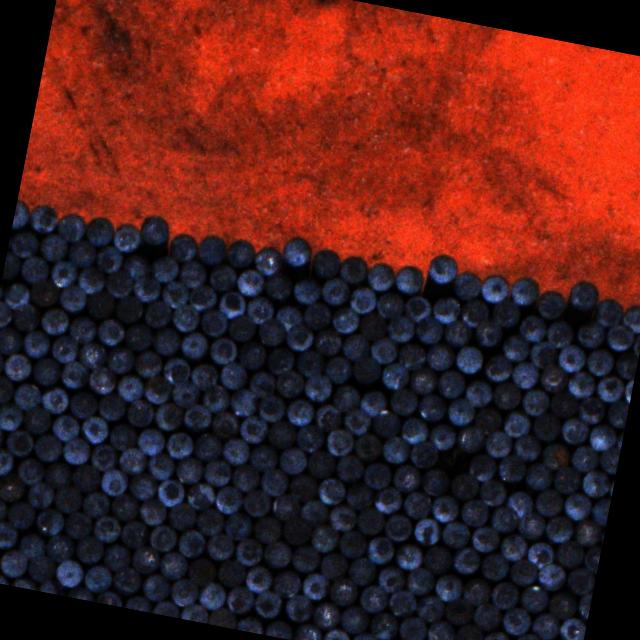tool: (426, 250, 460, 286), (195, 232, 228, 268), (478, 270, 511, 306), (280, 234, 314, 268), (534, 287, 568, 321), (110, 220, 143, 255), (167, 230, 200, 265), (567, 278, 600, 313), (83, 214, 116, 248), (309, 246, 342, 280), (392, 262, 425, 296), (508, 274, 541, 308), (318, 274, 352, 307), (235, 338, 268, 372), (159, 354, 192, 388), (420, 542, 453, 576), (54, 210, 87, 243), (350, 353, 383, 386), (273, 366, 306, 399), (351, 431, 384, 464), (408, 437, 441, 470), (27, 201, 59, 235), (138, 212, 170, 246), (252, 244, 284, 278), (365, 260, 397, 294), (592, 296, 624, 330), (37, 230, 69, 264), (373, 288, 405, 322), (458, 296, 490, 330), (102, 266, 134, 300), (169, 300, 201, 334), (10, 300, 42, 334), (490, 378, 522, 412), (49, 332, 81, 366), (470, 598, 502, 632), (336, 254, 369, 286), (451, 269, 483, 302), (8, 227, 40, 260), (429, 294, 462, 326), (28, 276, 61, 308), (424, 340, 457, 372), (435, 367, 467, 400), (132, 347, 164, 380), (58, 358, 91, 390), (218, 359, 250, 392), (414, 390, 447, 422), (340, 404, 372, 437), (530, 410, 562, 443), (586, 420, 618, 453), (539, 439, 571, 472), (10, 380, 42, 413), (266, 418, 298, 451), (115, 444, 148, 476), (308, 522, 341, 554), (118, 518, 151, 550), (262, 268, 293, 302), (500, 604, 531, 638), (92, 242, 124, 274), (120, 250, 152, 282), (148, 252, 180, 284), (176, 258, 208, 290), (206, 261, 238, 293), (234, 266, 266, 298), (290, 274, 322, 306), (346, 284, 378, 316), (543, 318, 575, 350), (300, 299, 332, 331), (356, 310, 388, 342), (556, 342, 588, 374), (256, 316, 288, 348), (368, 334, 400, 366), (396, 340, 428, 372), (538, 362, 570, 394), (39, 305, 71, 337), (94, 315, 126, 347), (122, 321, 154, 353), (574, 394, 606, 426), (20, 328, 52, 360), (104, 344, 136, 376), (86, 364, 118, 396), (169, 378, 201, 410), (227, 386, 259, 418), (300, 370, 332, 402), (387, 386, 419, 418), (369, 408, 401, 440), (558, 414, 590, 446), (454, 422, 486, 454), (39, 384, 71, 416), (181, 402, 213, 434), (208, 409, 240, 441), (237, 412, 269, 444), (294, 421, 326, 453), (560, 490, 592, 522), (97, 466, 129, 498), (70, 462, 102, 494), (212, 484, 244, 516), (240, 486, 272, 518), (129, 544, 161, 576), (357, 582, 389, 614), (386, 588, 418, 620), (414, 593, 446, 625), (443, 595, 475, 627), (52, 556, 84, 588), (168, 576, 200, 608), (196, 579, 228, 611), (338, 604, 370, 636), (225, 237, 256, 270), (19, 253, 50, 286), (179, 329, 210, 362), (379, 360, 412, 391), (579, 468, 612, 499), (75, 264, 106, 296), (131, 272, 162, 304), (244, 293, 275, 325), (482, 352, 514, 383), (57, 282, 88, 314), (84, 288, 115, 320), (341, 332, 372, 364), (565, 368, 596, 400), (594, 372, 626, 403), (67, 314, 98, 346), (150, 325, 181, 357), (294, 348, 325, 380), (407, 364, 438, 396), (463, 376, 494, 408), (76, 339, 108, 370), (31, 356, 62, 388), (357, 387, 388, 419), (398, 414, 429, 446), (425, 420, 457, 451), (482, 428, 514, 459), (68, 389, 99, 421), (153, 400, 184, 432), (20, 404, 52, 435), (78, 414, 110, 445), (107, 420, 138, 452), (135, 425, 166, 457), (304, 448, 336, 479), (488, 503, 520, 534), (155, 476, 186, 508), (184, 481, 216, 512), (554, 538, 585, 570), (52, 482, 83, 514), (223, 510, 254, 542), (451, 544, 482, 576), (176, 526, 207, 558), (232, 536, 264, 567), (261, 538, 292, 570), (404, 565, 436, 596), (432, 572, 464, 603), (519, 582, 550, 614), (73, 534, 104, 566), (100, 542, 132, 573), (271, 568, 302, 600), (82, 563, 114, 594), (110, 564, 142, 595), (283, 591, 314, 623), (510, 358, 540, 391), (346, 554, 376, 587), (66, 237, 97, 268), (517, 312, 548, 343), (413, 314, 444, 345), (142, 298, 173, 329), (520, 387, 551, 418), (1, 351, 32, 382), (330, 383, 361, 414), (501, 408, 532, 439), (125, 397, 156, 428), (220, 436, 251, 467), (391, 462, 422, 493), (229, 462, 260, 493), (543, 514, 574, 545), (127, 471, 158, 502), (441, 519, 472, 550), (137, 496, 168, 527), (166, 500, 197, 531), (365, 534, 396, 565), (478, 551, 509, 582), (461, 577, 492, 608), (489, 579, 520, 610), (490, 298, 522, 328), (112, 294, 144, 324), (284, 320, 314, 352), (208, 334, 238, 366), (322, 353, 352, 385), (548, 390, 580, 420), (141, 374, 173, 404), (200, 382, 230, 414), (284, 396, 316, 426), (312, 401, 342, 433), (444, 396, 476, 426), (472, 404, 502, 436), (324, 426, 354, 458), (551, 464, 581, 496), (430, 492, 460, 524), (270, 492, 302, 522), (411, 514, 441, 546), (498, 531, 528, 563), (508, 556, 538, 588), (536, 560, 566, 592), (62, 508, 92, 540), (291, 542, 321, 574), (44, 532, 74, 564), (158, 550, 188, 582), (300, 570, 330, 602), (140, 572, 170, 604), (402, 294, 433, 324), (49, 259, 79, 290), (160, 278, 190, 309), (442, 318, 472, 349), (500, 333, 530, 364), (528, 338, 558, 369), (312, 326, 343, 356), (265, 346, 296, 376), (189, 361, 219, 392), (246, 369, 277, 399), (256, 392, 286, 423), (511, 432, 542, 462), (96, 392, 127, 422), (524, 460, 554, 491), (49, 413, 80, 443), (164, 430, 194, 461), (192, 432, 222, 463), (334, 452, 364, 483), (534, 487, 564, 518), (32, 432, 63, 462), (60, 435, 90, 466), (287, 472, 318, 502), (316, 476, 346, 507), (372, 484, 402, 515), (459, 497, 489, 528), (194, 506, 224, 537), (546, 589, 576, 620), (186, 556, 216, 587), (216, 557, 246, 588), (243, 564, 274, 594), (327, 576, 358, 606), (529, 610, 560, 640), (225, 584, 255, 615), (311, 600, 341, 631), (367, 610, 398, 640), (576, 320, 606, 350), (604, 322, 634, 352), (187, 282, 217, 312), (218, 290, 248, 320), (330, 305, 360, 335), (385, 314, 415, 344), (454, 344, 484, 374), (584, 346, 614, 376), (1, 280, 31, 310), (198, 308, 228, 338), (226, 312, 256, 342), (114, 372, 144, 402), (569, 443, 599, 473), (380, 434, 410, 464), (496, 453, 526, 483), (277, 446, 307, 476), (248, 442, 278, 472), (362, 460, 392, 490), (450, 471, 480, 501), (476, 478, 506, 508), (504, 489, 534, 519), (4, 428, 34, 458), (146, 452, 176, 482), (202, 458, 232, 488), (259, 466, 289, 496), (344, 481, 374, 511), (400, 490, 430, 520), (516, 510, 546, 540), (15, 456, 45, 486), (42, 460, 72, 490), (298, 498, 328, 528), (382, 512, 412, 542), (524, 540, 554, 570), (80, 490, 110, 520), (109, 492, 139, 522), (252, 514, 282, 544), (282, 516, 312, 546), (338, 529, 368, 559), (394, 542, 424, 572), (565, 566, 595, 596), (6, 500, 36, 530), (34, 506, 64, 536), (92, 514, 122, 544), (148, 522, 178, 552), (318, 550, 348, 580), (376, 564, 406, 594), (26, 554, 56, 584), (252, 588, 282, 618), (327, 504, 358, 533), (473, 318, 502, 348), (467, 454, 497, 483), (420, 468, 450, 497), (89, 442, 118, 472), (356, 506, 385, 536), (470, 524, 500, 553), (207, 532, 236, 562), (17, 532, 46, 562), (274, 303, 302, 333), (612, 350, 640, 380), (174, 456, 204, 484), (572, 518, 600, 548), (26, 480, 54, 510), (0, 548, 28, 578), (0, 471, 26, 503), (0, 323, 24, 357), (396, 614, 427, 640), (208, 604, 238, 630), (557, 615, 588, 640), (605, 398, 630, 428), (424, 617, 456, 640), (598, 444, 622, 474), (180, 601, 210, 624), (619, 302, 640, 334), (12, 198, 32, 231), (0, 402, 22, 432), (589, 496, 611, 526), (265, 619, 293, 640), (582, 544, 602, 573), (95, 588, 124, 608), (453, 622, 485, 640), (124, 592, 152, 612), (152, 598, 180, 618), (293, 621, 322, 640), (237, 614, 264, 634), (2, 252, 21, 280), (66, 584, 95, 602), (576, 589, 593, 619), (0, 520, 17, 550), (38, 578, 66, 596), (0, 374, 15, 405), (0, 446, 14, 477), (321, 626, 351, 640), (0, 300, 13, 329), (480, 628, 511, 640), (511, 630, 543, 640), (350, 630, 380, 640), (0, 495, 8, 524), (0, 348, 5, 378)
tool_b: (433, 444, 466, 474)
